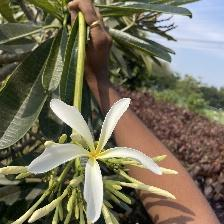champaka: (26, 92, 164, 224)
